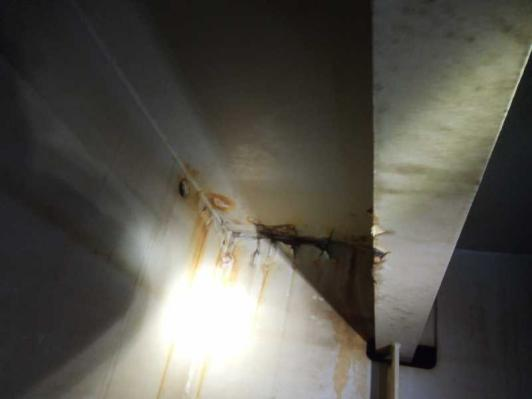corrosion: (178, 178, 234, 271), (315, 305, 370, 399)
